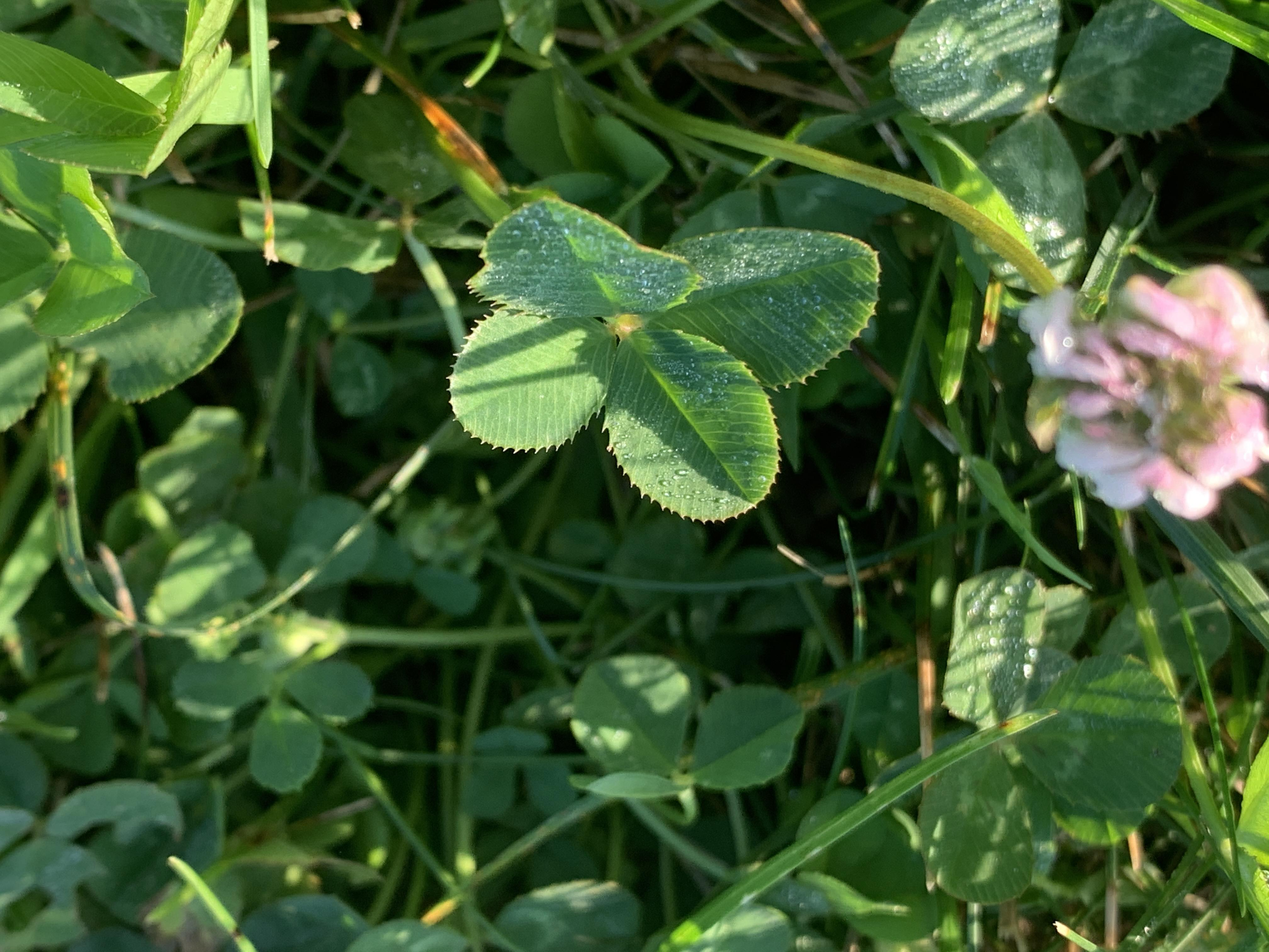4-Leaf-Clovers: (391, 429, 823, 746)
